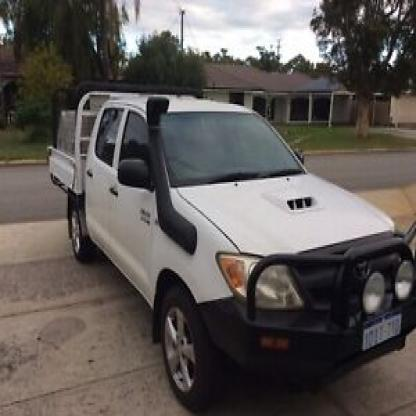dump_truck: (10, 74, 412, 388)
